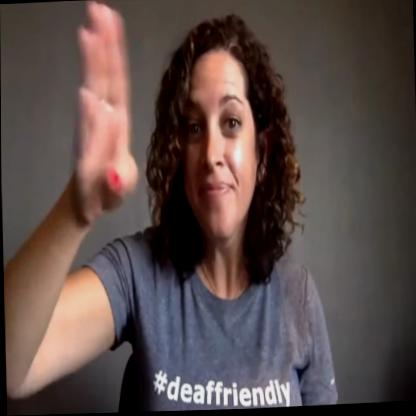Hello: (24, 0, 307, 306)
